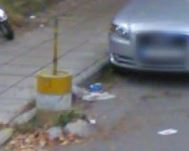trash: (86, 76, 115, 99), (153, 122, 183, 139)
